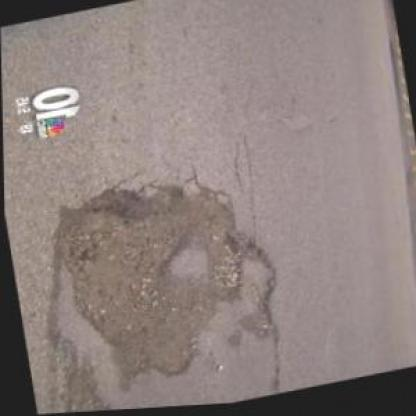pothole: (50, 164, 288, 402)
